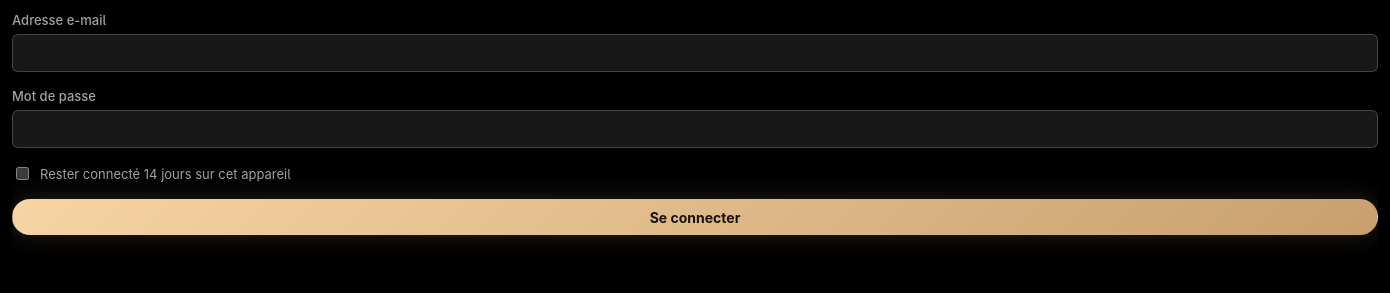
Test: LoginForm › reports a disabled account distinctly
The image size is (1390, 293).
Type "owner@example.test" into the field labelled "Adresse e-mail" at {"x": 695, "y": 53}, box [12, 34, 1378, 72]
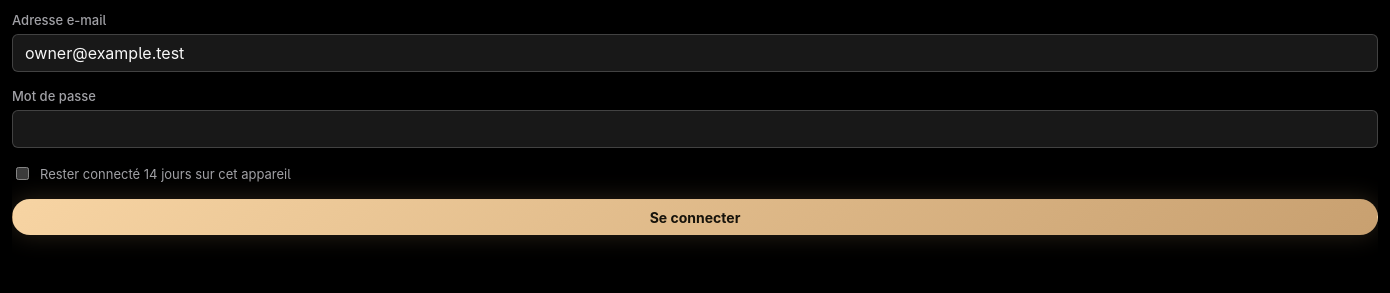
Type "correct horse battery" into the password field labelled "Mot de passe" at {"x": 695, "y": 129}, box [12, 110, 1378, 148]
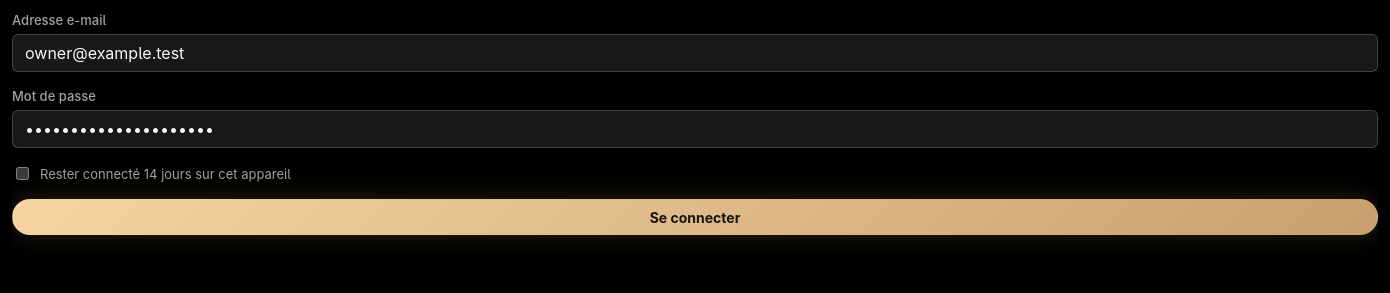
Submit the form from the button "Se connecter", box [12, 199, 1378, 235]
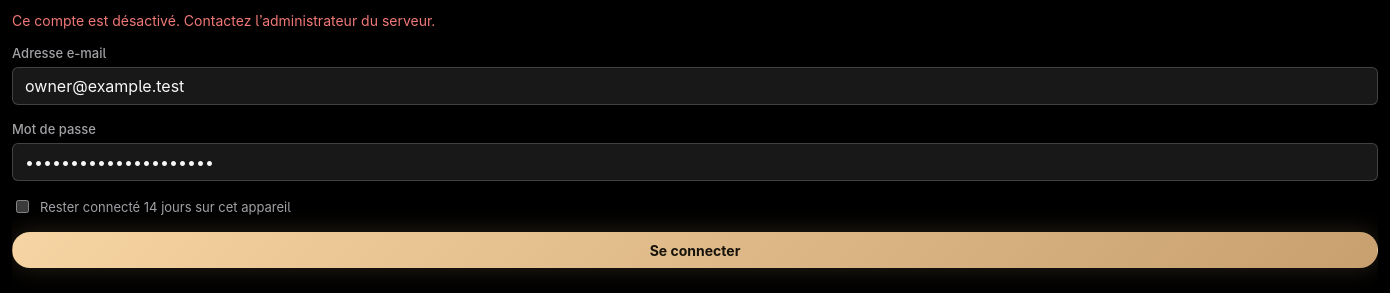
Now the message shows "désactivé", box [12, 12, 435, 29]
